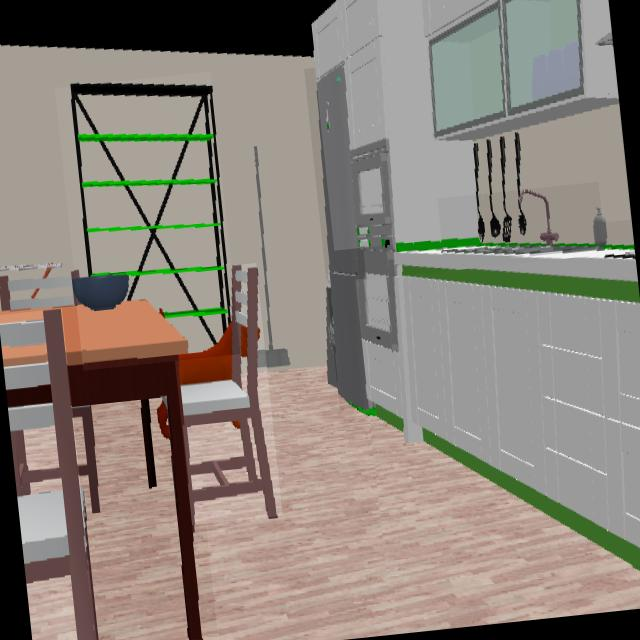cabinet: (364, 276, 640, 547), (312, 0, 619, 242)
chair: (0, 310, 98, 640), (182, 265, 276, 516)
fridge: (316, 65, 372, 408)
shelf: (70, 86, 230, 358)
sink: (442, 189, 605, 256)
table: (62, 300, 201, 639), (6, 386, 52, 407), (1, 345, 45, 366)
